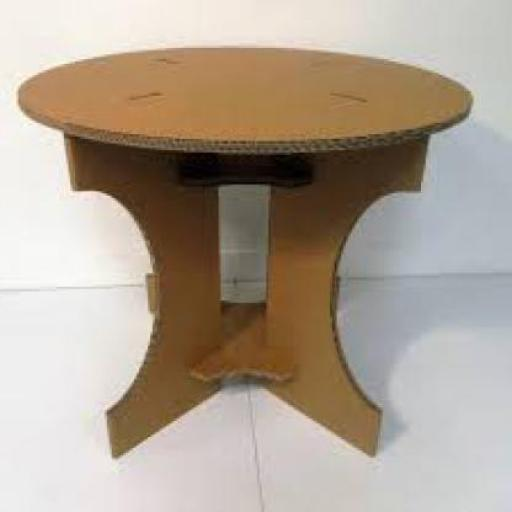cardboard: (66, 135, 428, 457), (20, 44, 476, 154)
